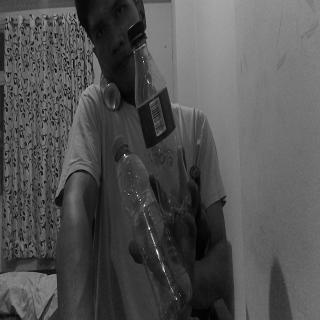plastic_bottles: (111, 136, 192, 320), (128, 14, 191, 224)
